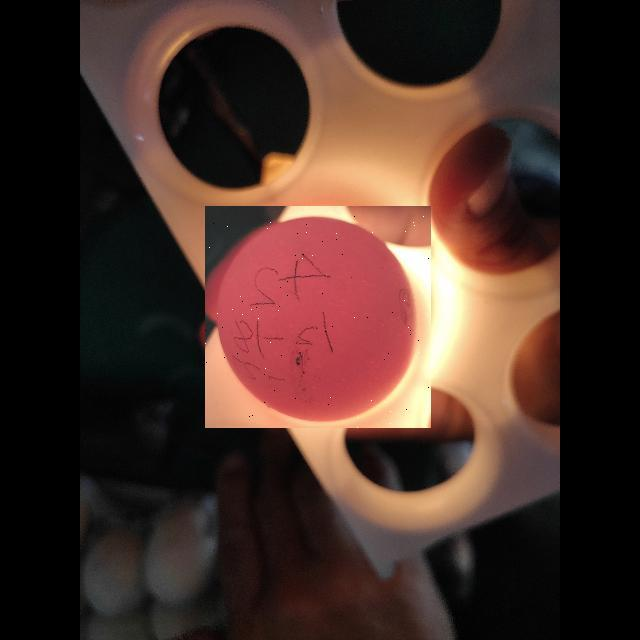Infertile: (205, 206, 431, 428)
